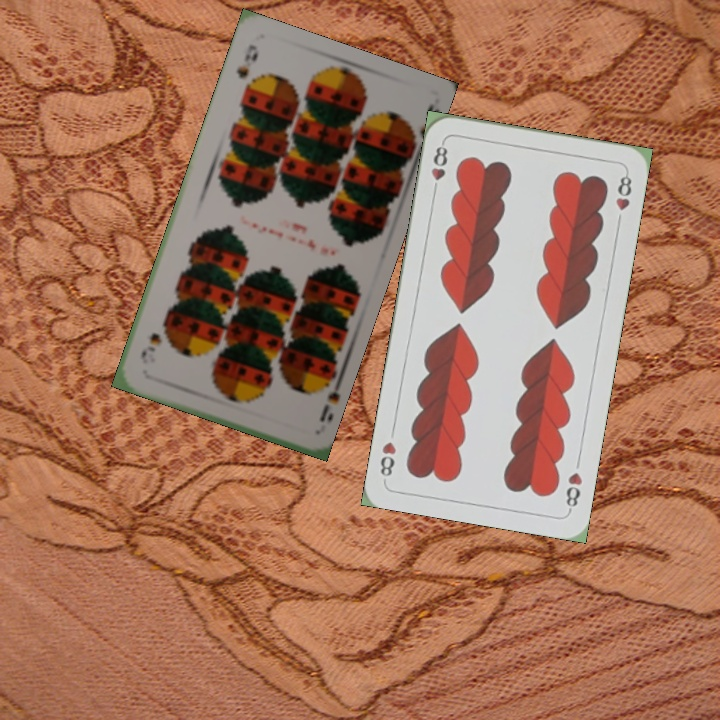H8: (427, 138, 450, 197), (562, 468, 585, 514)
S9: (313, 373, 338, 425), (232, 40, 261, 81)
